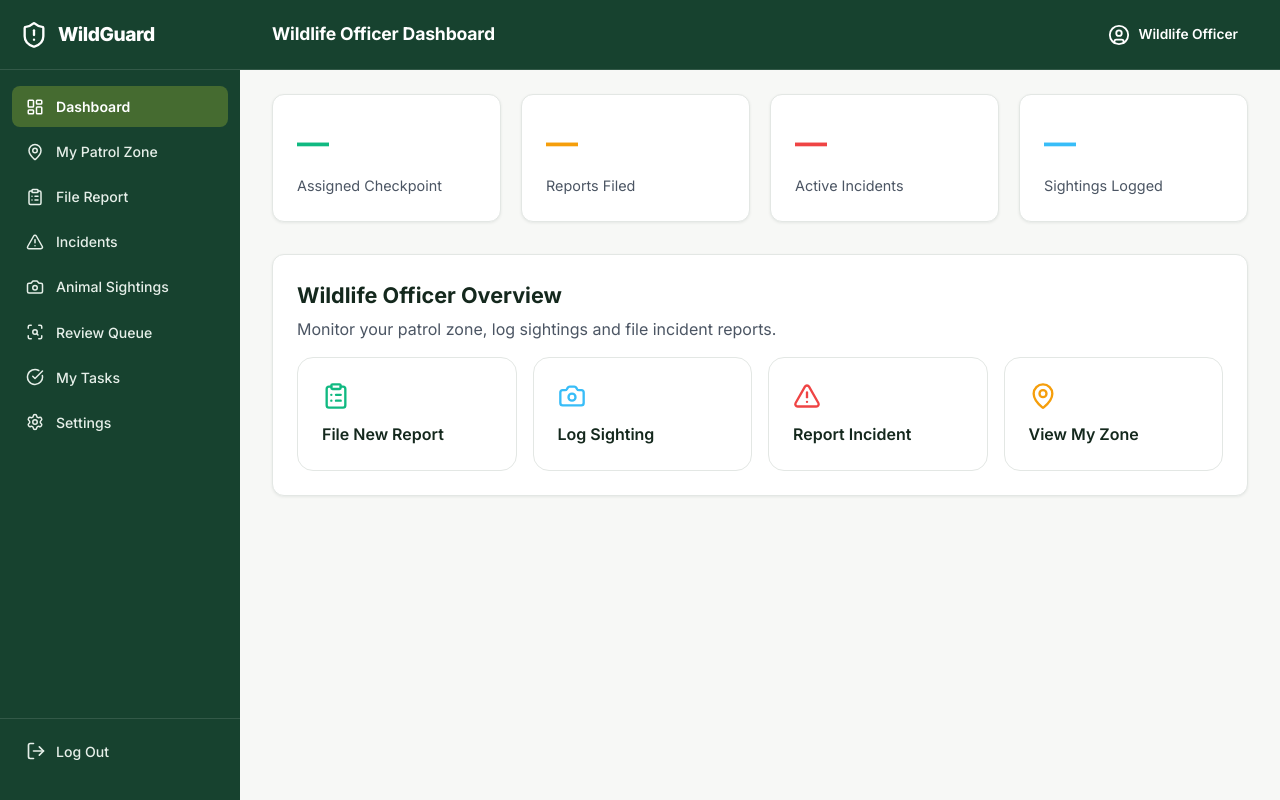
Test: WildlifeOfficerDashboard - UC02 integration › Review Queue navigation renders the UC02 review queue instead of the under-construction placeholder
The image size is (1280, 800).
Click the text "Review Queue". click: {"x": 104, "y": 332}
box: 56,322 -> 152,343
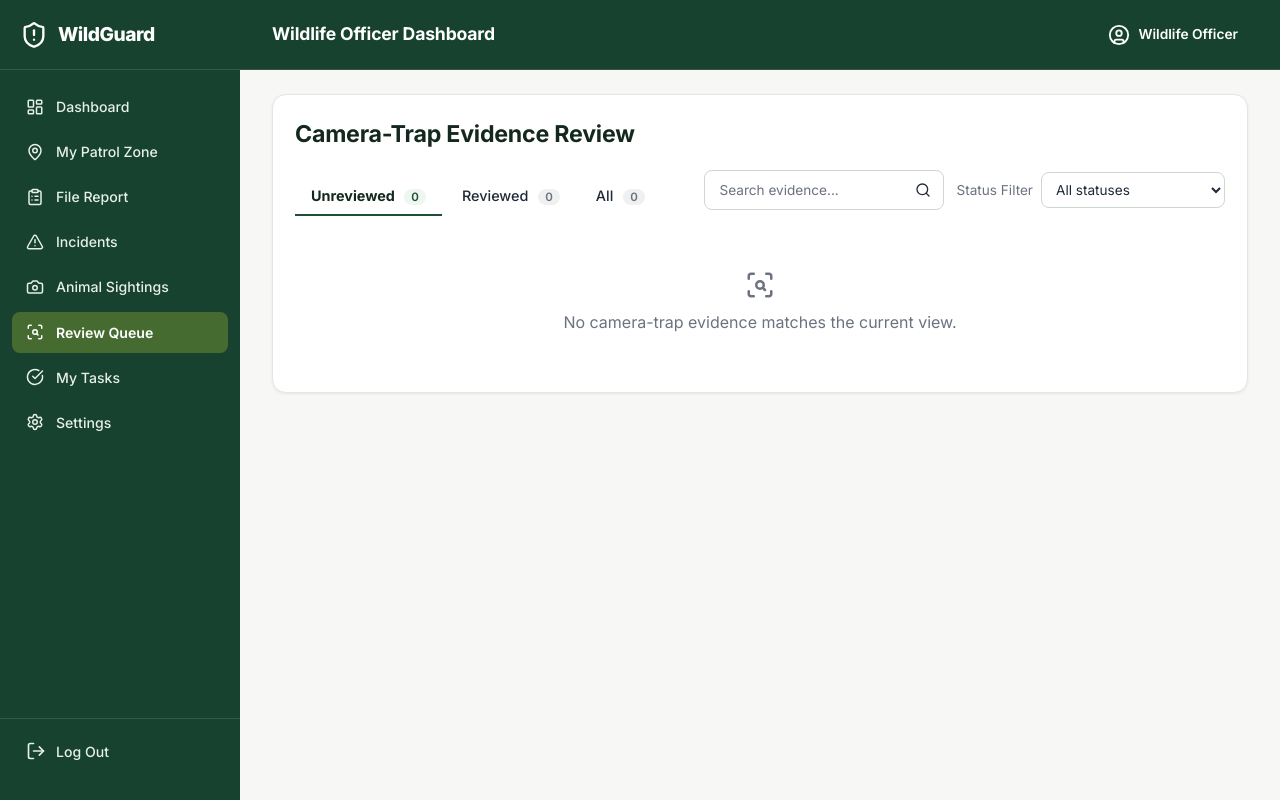
Result: the heading "Camera-Trap Evidence Review" is shown at 295,117 -> 635,152
